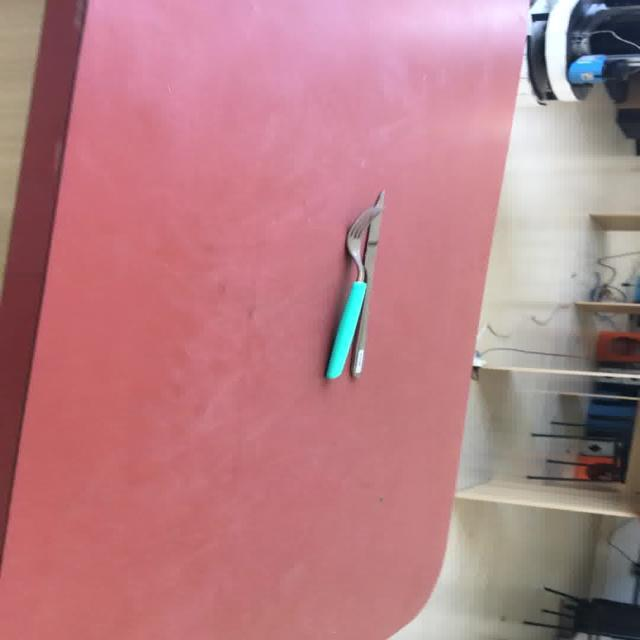fork: (323, 188, 385, 378)
knife: (345, 188, 385, 377)
knife fork: (323, 188, 386, 378)
